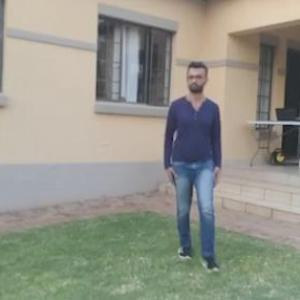follow: (160, 56, 224, 272)
